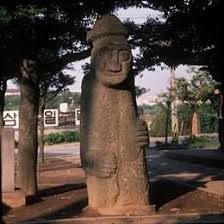Stone Statue: (62, 11, 169, 221)
